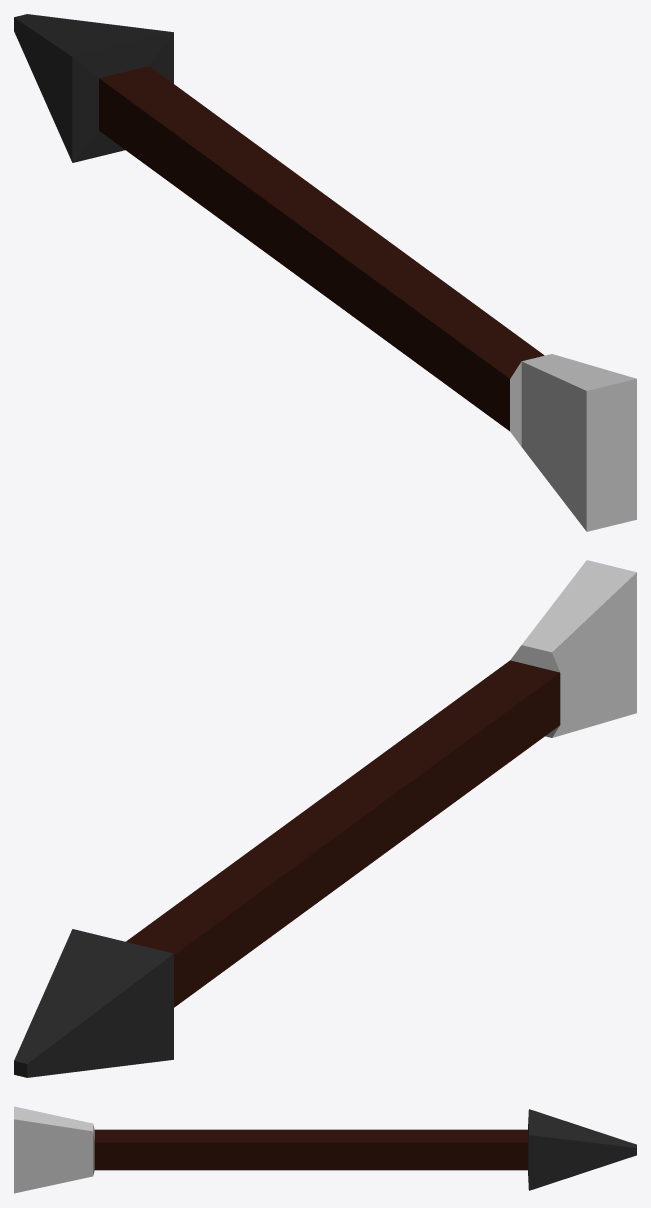
File: Arrow.obj
3 views of the same model, one above another, from view 1: azimuth 30°, elevation 25°; view 2: azimuth 150°, elevation 25°; view 3: azimuth 270°, elevation 25° (orthographic). The views are drawn at different scales.
Parts seen in each view (by area): view 1: Cube; view 2: Cube; view 3: Cube.
Part boxes in pixels (x1,y1,x2,y2): Cube: [14, 14, 636, 531]; Cube: [14, 560, 636, 1077]; Cube: [14, 1106, 636, 1193].
Bounding box in the file's own units: 0.1564 × 0.2076 × 1.58.
